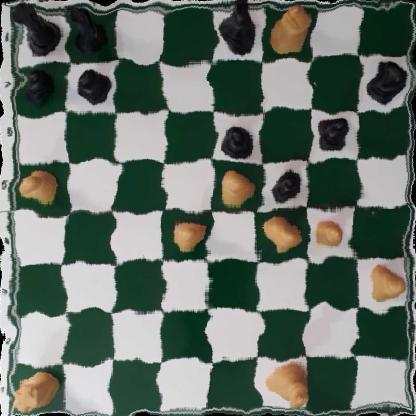black-king: (213, 0, 259, 55)
black-knight: (63, 5, 109, 51)
black-pawn: (17, 65, 59, 104), (367, 61, 404, 104), (216, 121, 255, 159), (270, 165, 304, 206), (317, 113, 350, 152), (77, 67, 109, 105)
black-rook: (10, 4, 60, 57)
white-bishop: (268, 0, 310, 53)
white-king: (268, 356, 309, 412)
white-pawn: (213, 168, 255, 211), (17, 166, 61, 207), (167, 216, 210, 252), (365, 264, 405, 300), (309, 214, 345, 253), (262, 216, 301, 251)
white-rook: (9, 366, 55, 414)
